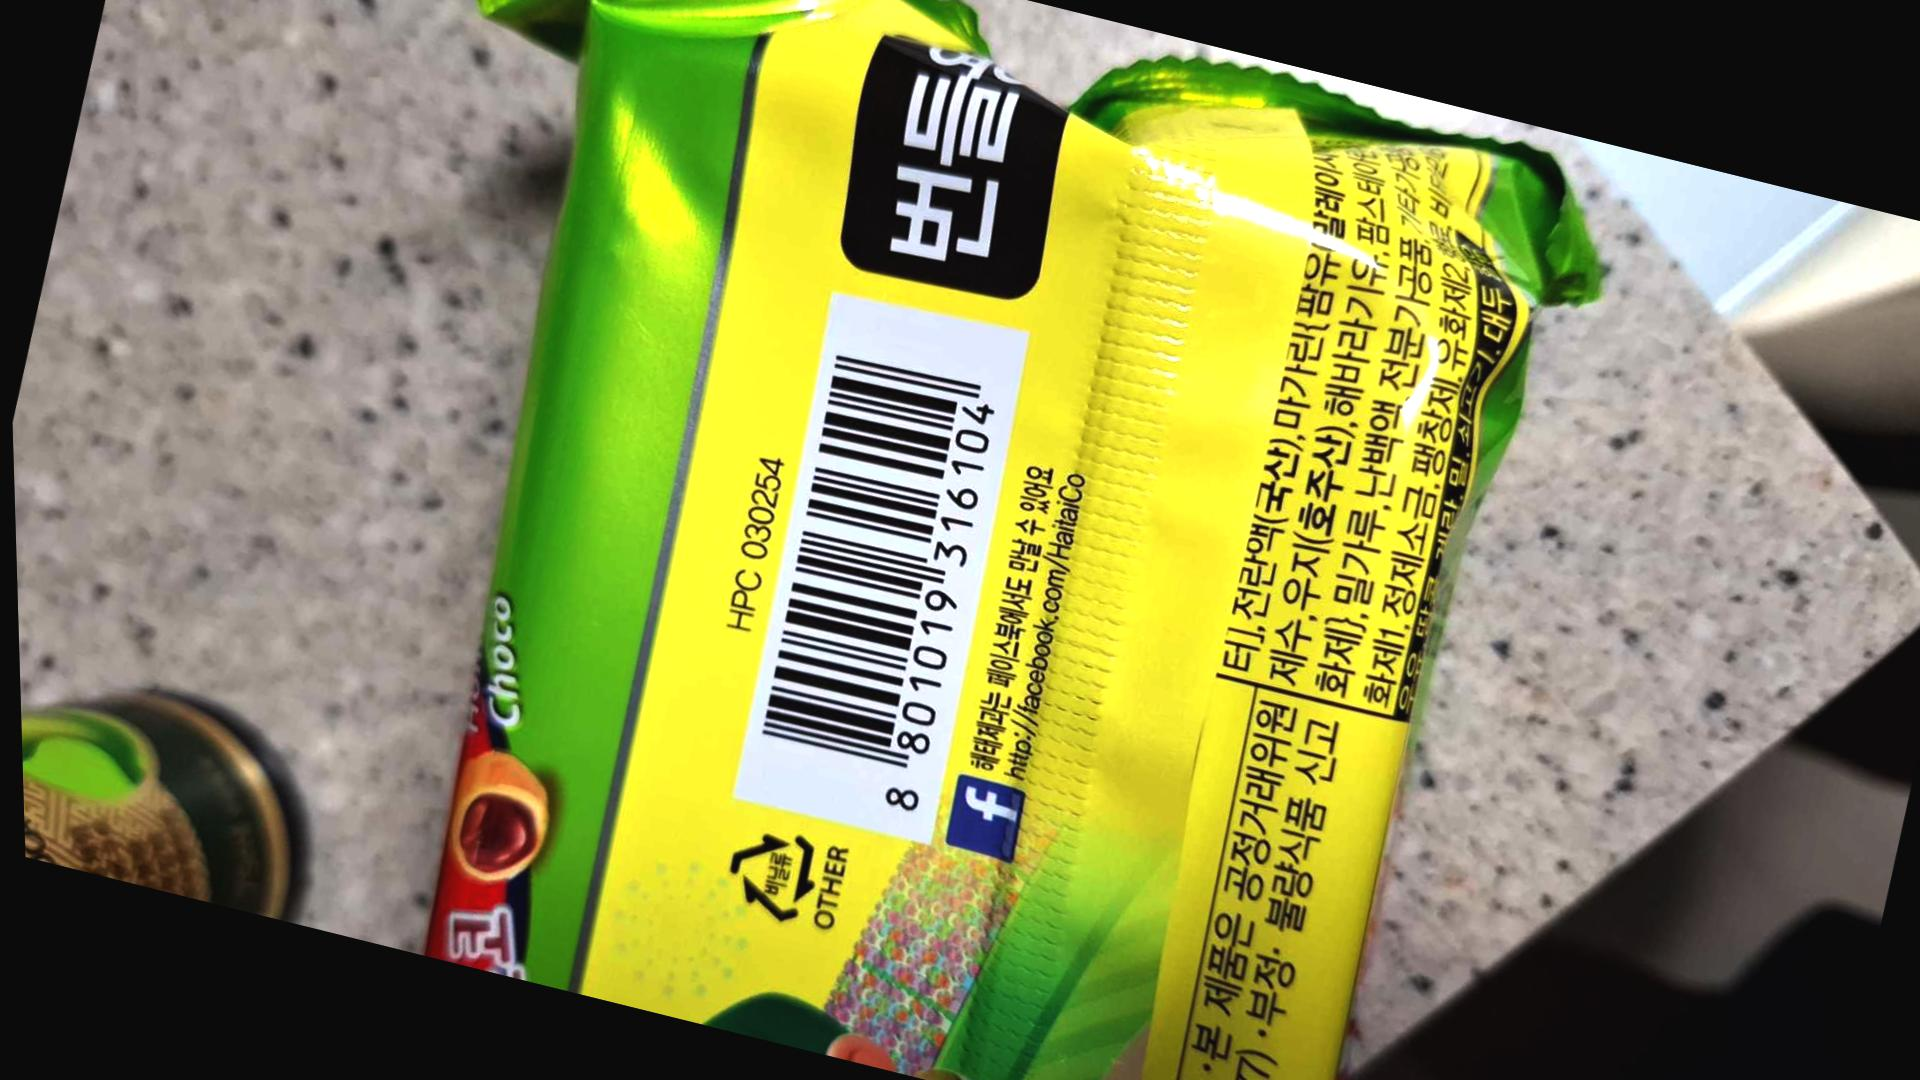cow-12000-2024-8-30: (731, 336, 1029, 822)
